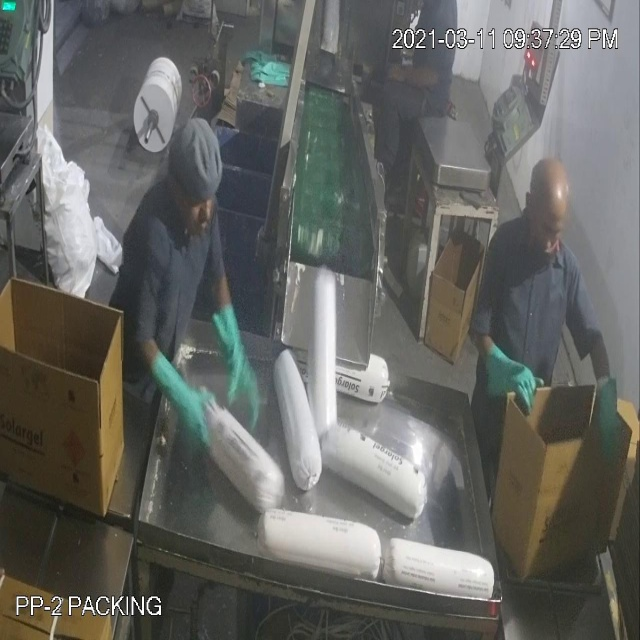Guantes: (208, 304, 266, 436), (485, 334, 541, 420), (596, 364, 628, 476)
Sin_guantes: (382, 48, 437, 103)
